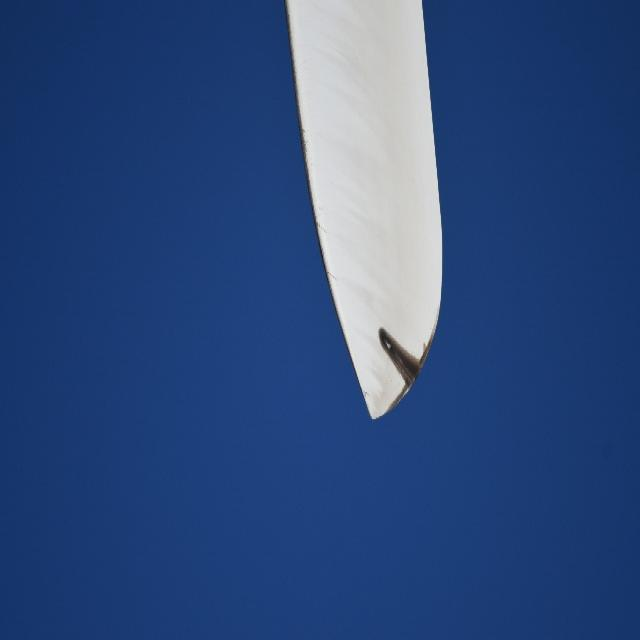Burn Mark: (362, 308, 436, 408)
